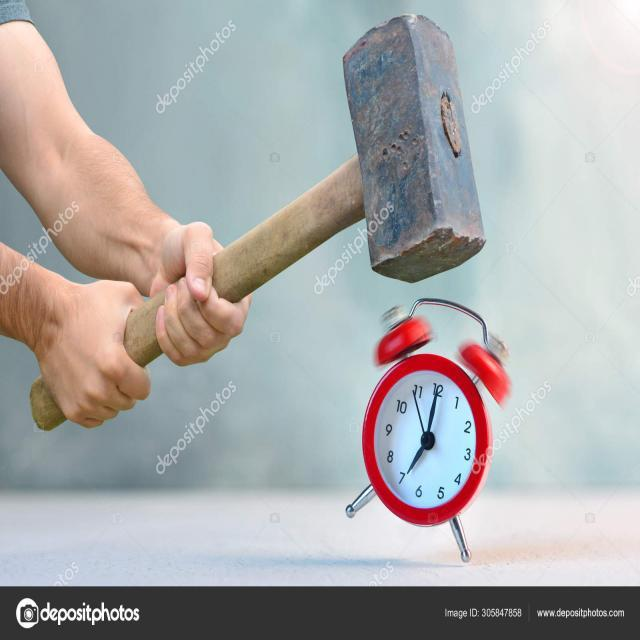hammer: (22, 7, 490, 439)
